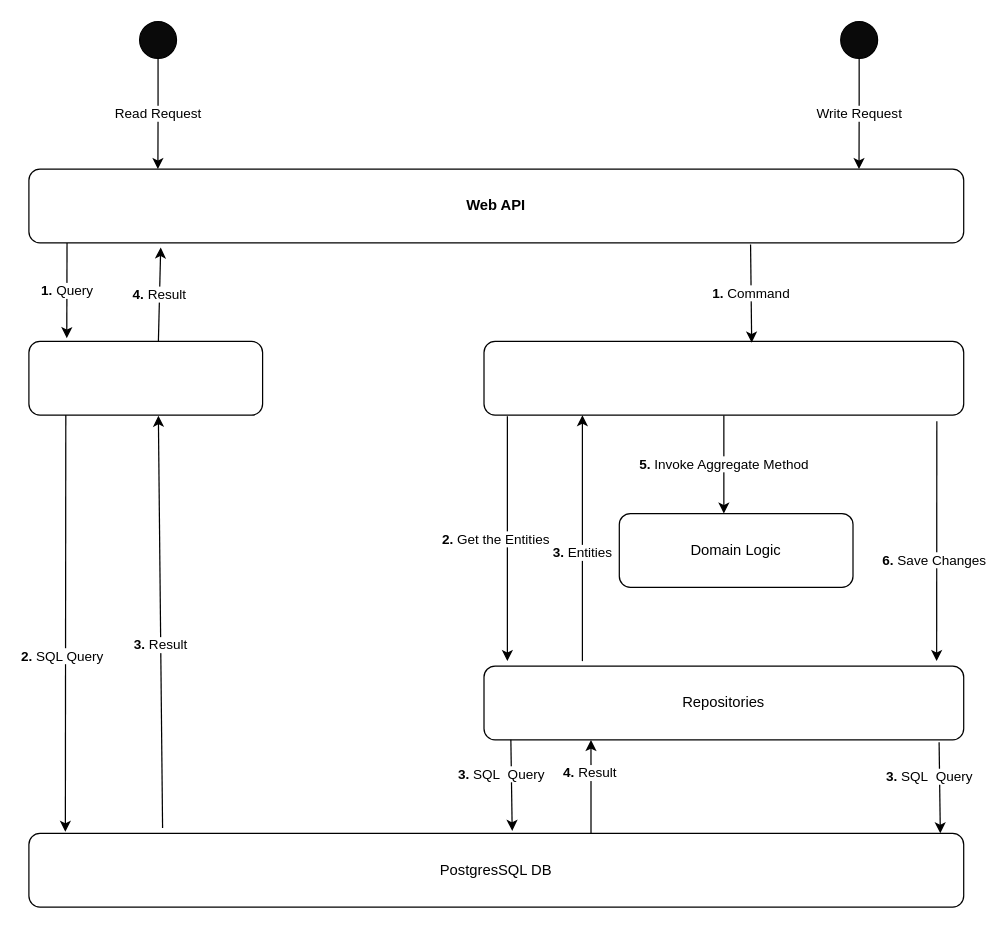
Image size: 1006x929. Some labels were removed from this diagram. Here are the shapes that lost their labels. From the top down, the centre of each, then its label:
pixel 145 377: Query Handler (using Raw SQL)
pixel 723 377: Command Handler (using EF)
